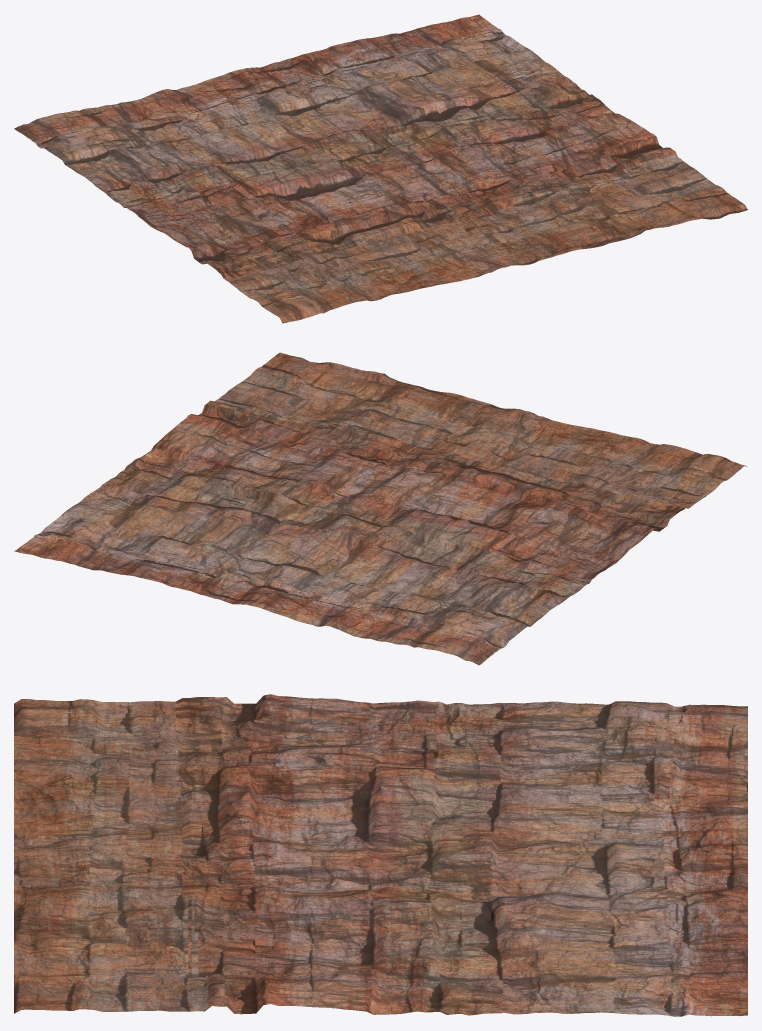
Rendered from cliff2.fbx.
3 renders of one model, top to bottom at view 1: azimuth 30°, elevation 25°; view 2: azimuth 150°, elevation 25°; view 3: azimuth 270°, elevation 25°, orthographic. The views are drawn at different scales.
Parts seen in each view (by area): view 1: cliff2; view 2: cliff2; view 3: cliff2.
Part boxes in pixels (box(x1,y1,x2,y2)): cliff2: box(14, 14, 747, 323); cliff2: box(14, 352, 746, 665); cliff2: box(14, 694, 747, 1016).
Bounding box in the file's own units: 10000 × 266 × 10000.
Materials: 1 (1 with a texture image).
